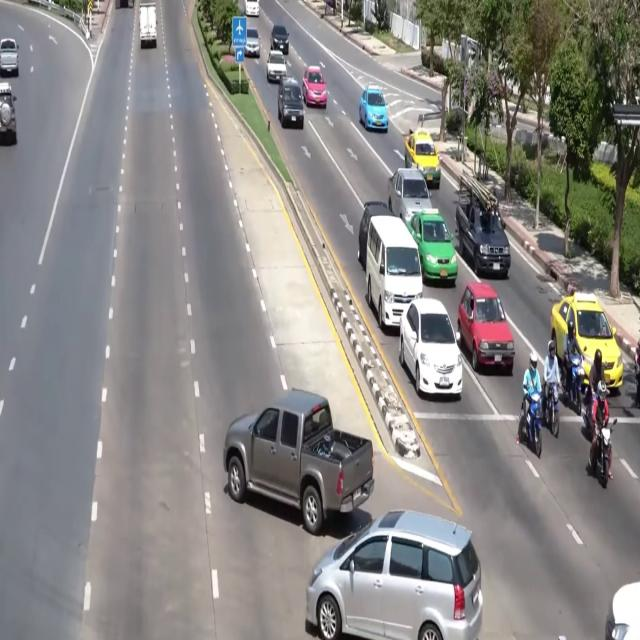car: (306, 511, 482, 639), (551, 292, 623, 388), (399, 298, 462, 398), (458, 282, 514, 375), (407, 209, 458, 285), (388, 168, 432, 223), (358, 201, 391, 268), (405, 128, 440, 188), (605, 583, 639, 639), (359, 85, 388, 131), (278, 77, 304, 128), (302, 66, 326, 108), (0, 83, 16, 143), (0, 39, 18, 76), (267, 50, 286, 82), (271, 24, 288, 54), (245, 27, 260, 57), (244, 0, 259, 16)
scooty: (591, 419, 617, 487), (519, 392, 542, 457), (568, 354, 584, 415), (545, 383, 560, 438), (634, 340, 639, 407)
truck: (223, 389, 374, 535), (456, 173, 510, 277), (139, 3, 157, 47)
